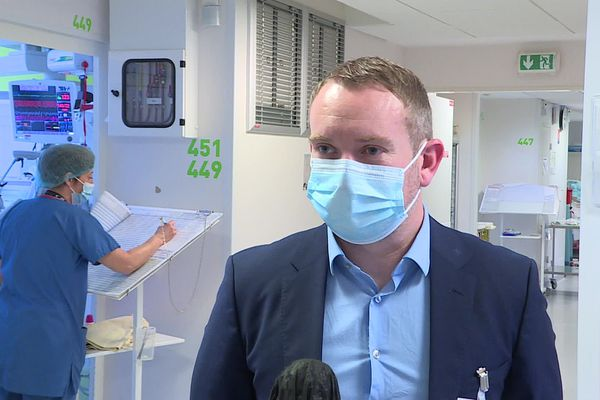with_mask: (311, 108, 419, 246)
